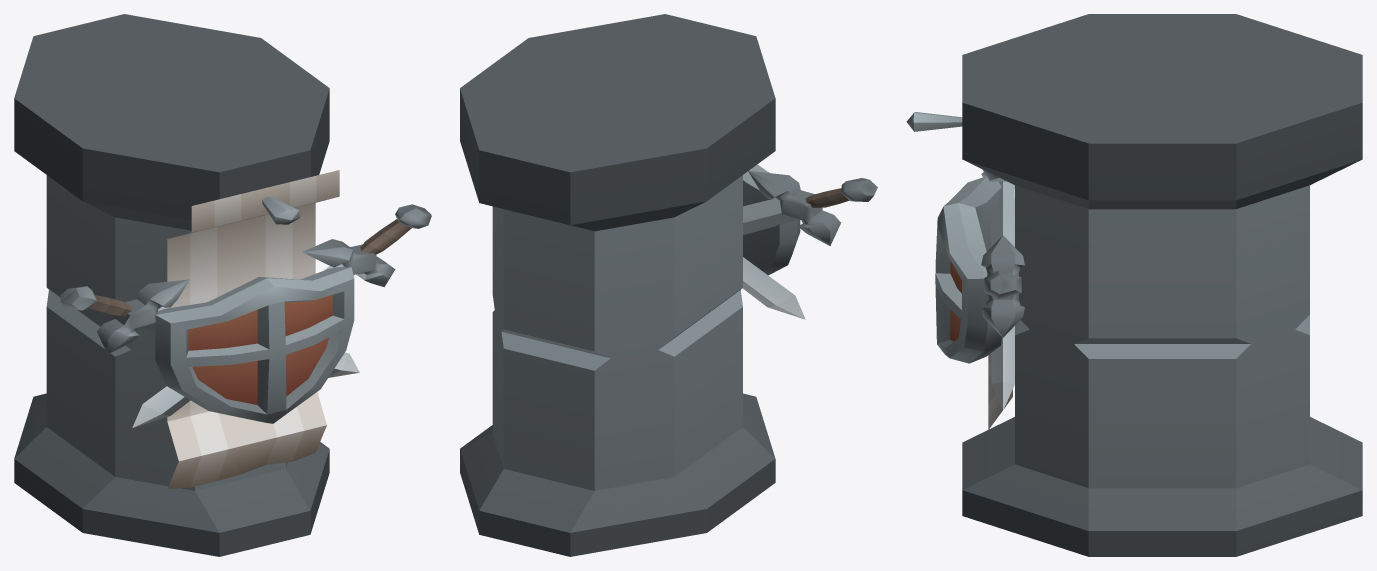
Rendered from pillar_decorated.glb.
3 views of the same model, side by side, from view 1: azimuth 30°, elevation 25°; view 2: azimuth 150°, elevation 25°; view 3: azimuth 270°, elevation 25° (orthographic). The views are drawn at different scales.
Parts seen in each view (by area): view 1: pillar_decorated; view 2: pillar_decorated; view 3: pillar_decorated.
Boxes of the visible parts, bbox=[...] form: pillar_decorated: bbox=[14, 14, 431, 556]; pillar_decorated: bbox=[460, 14, 877, 556]; pillar_decorated: bbox=[906, 14, 1362, 556].
Bounding box in the file's own units: 1 × 1 × 1.
Materials: 1 (1 with a texture image).
